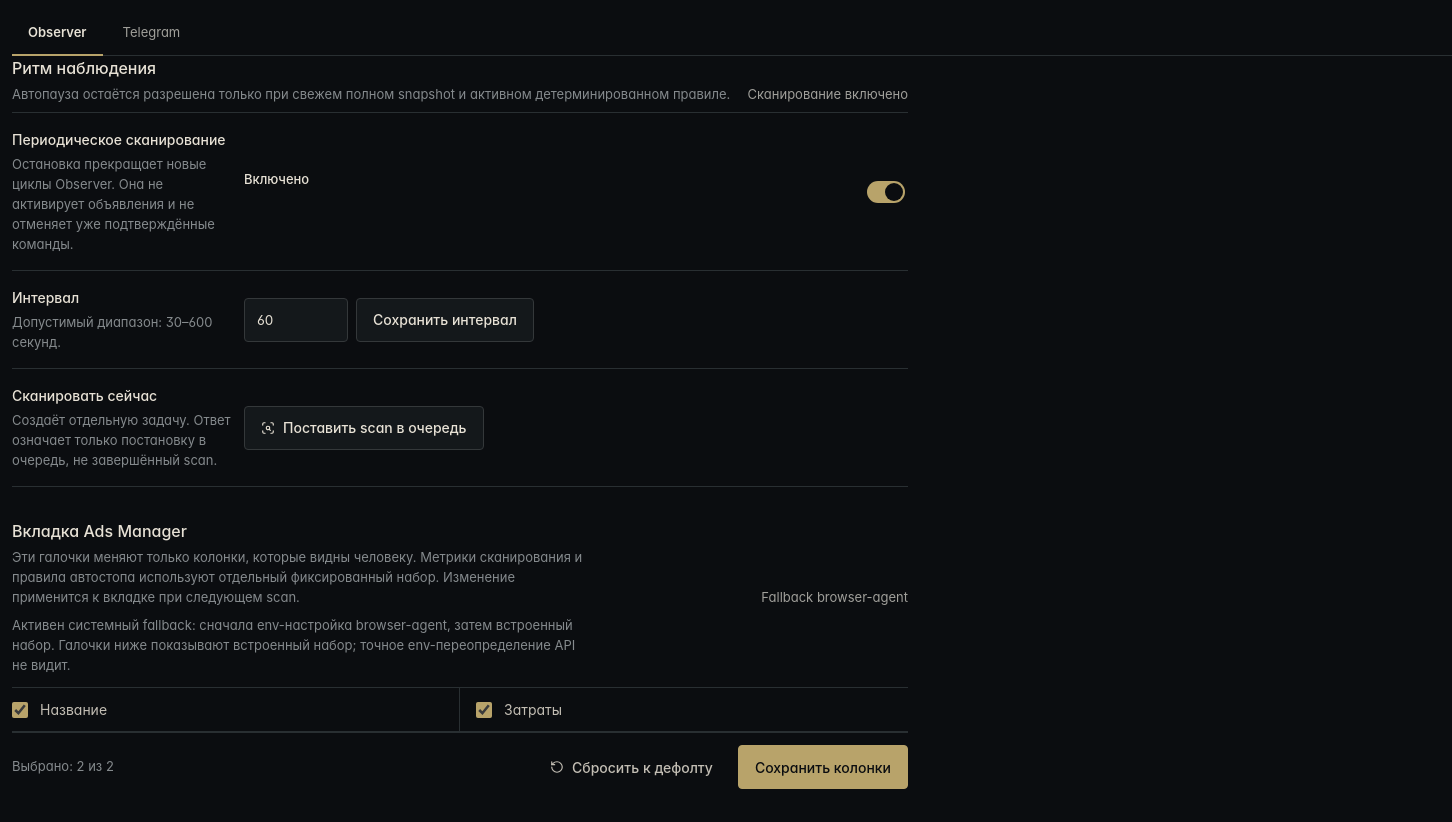
Test case: Settings — переключение табов › клик Telegram → контент Telegram виден
Click the tab "Telegram" at (151, 34), box [106,12,196,56]
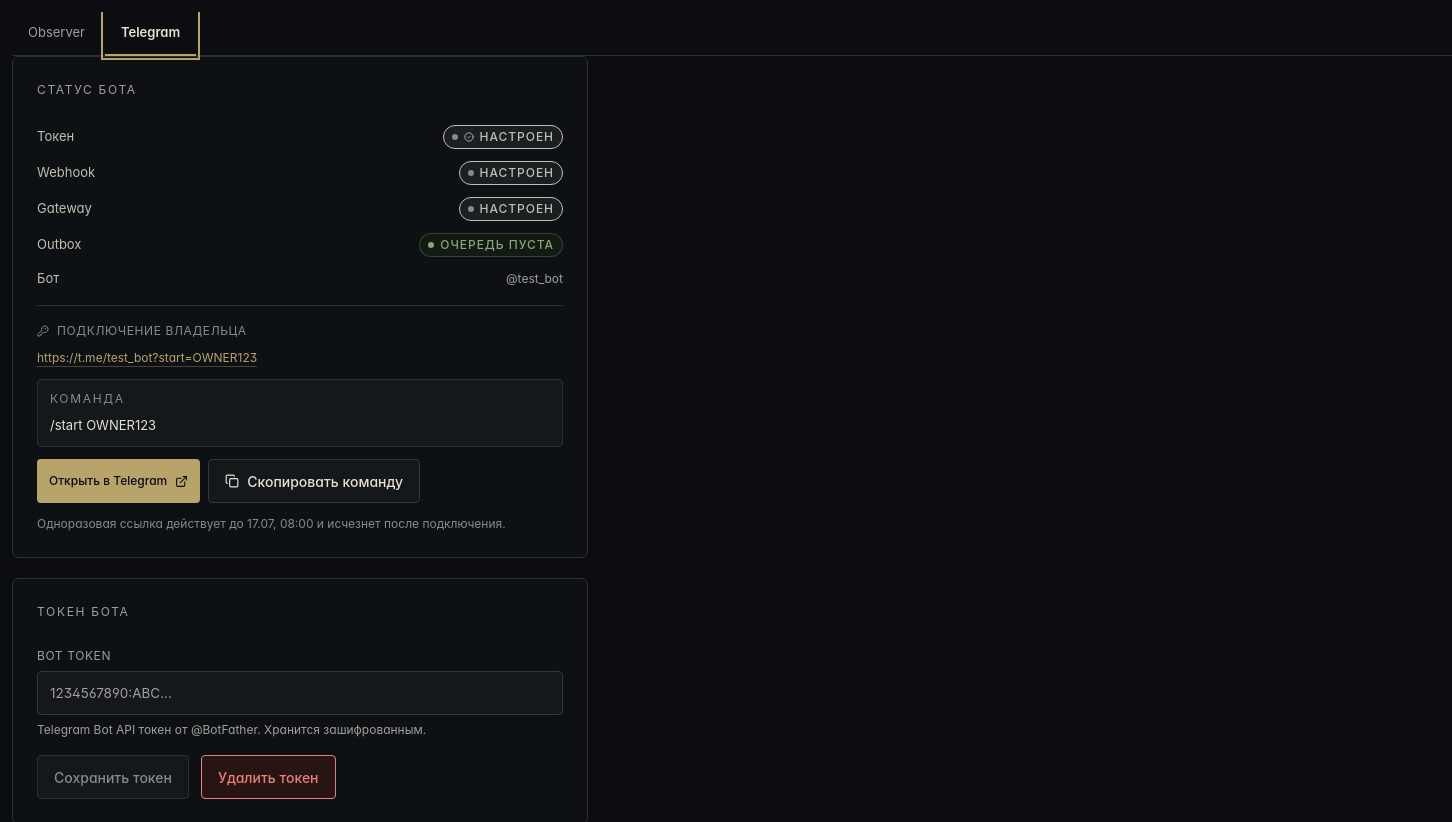
Expected: the text "Статус бота" is shown, [37,81,137,99]
